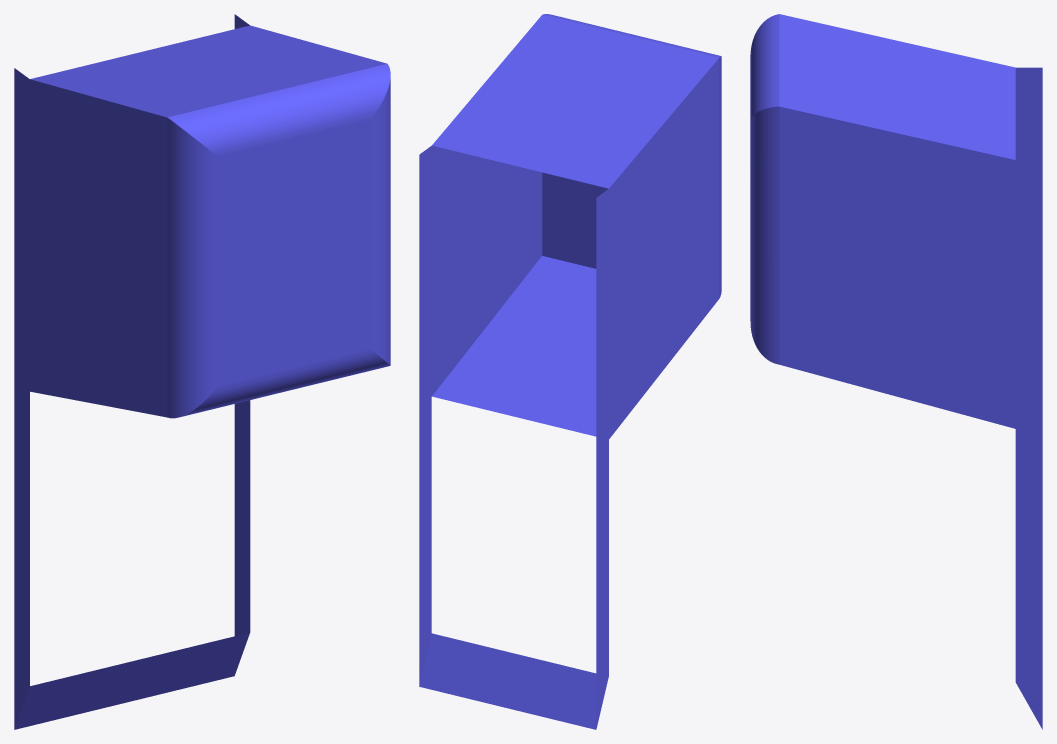
The model's file is original-12.obj.
3 views of the same model, side by side, from view 1: azimuth 30°, elevation 25°; view 2: azimuth 150°, elevation 25°; view 3: azimuth 270°, elevation 25° (orthographic). The views are drawn at different scales.
Parts seen in each view (by area): view 1: mesh10/mesh10-geometry/material_1#mesh10-geometry; view 2: mesh10/mesh10-geometry/material_1#mesh10-geometry; view 3: mesh10/mesh10-geometry/material_1#mesh10-geometry.
Part boxes in pixels (x1,y1,x2,y2): mesh10/mesh10-geometry/material_1#mesh10-geometry: (14,14,390,729); mesh10/mesh10-geometry/material_1#mesh10-geometry: (419,14,721,729); mesh10/mesh10-geometry/material_1#mesh10-geometry: (750,14,1042,729).
Size of the model in its own units: 0.1264 by 0.397 by 0.1686.
